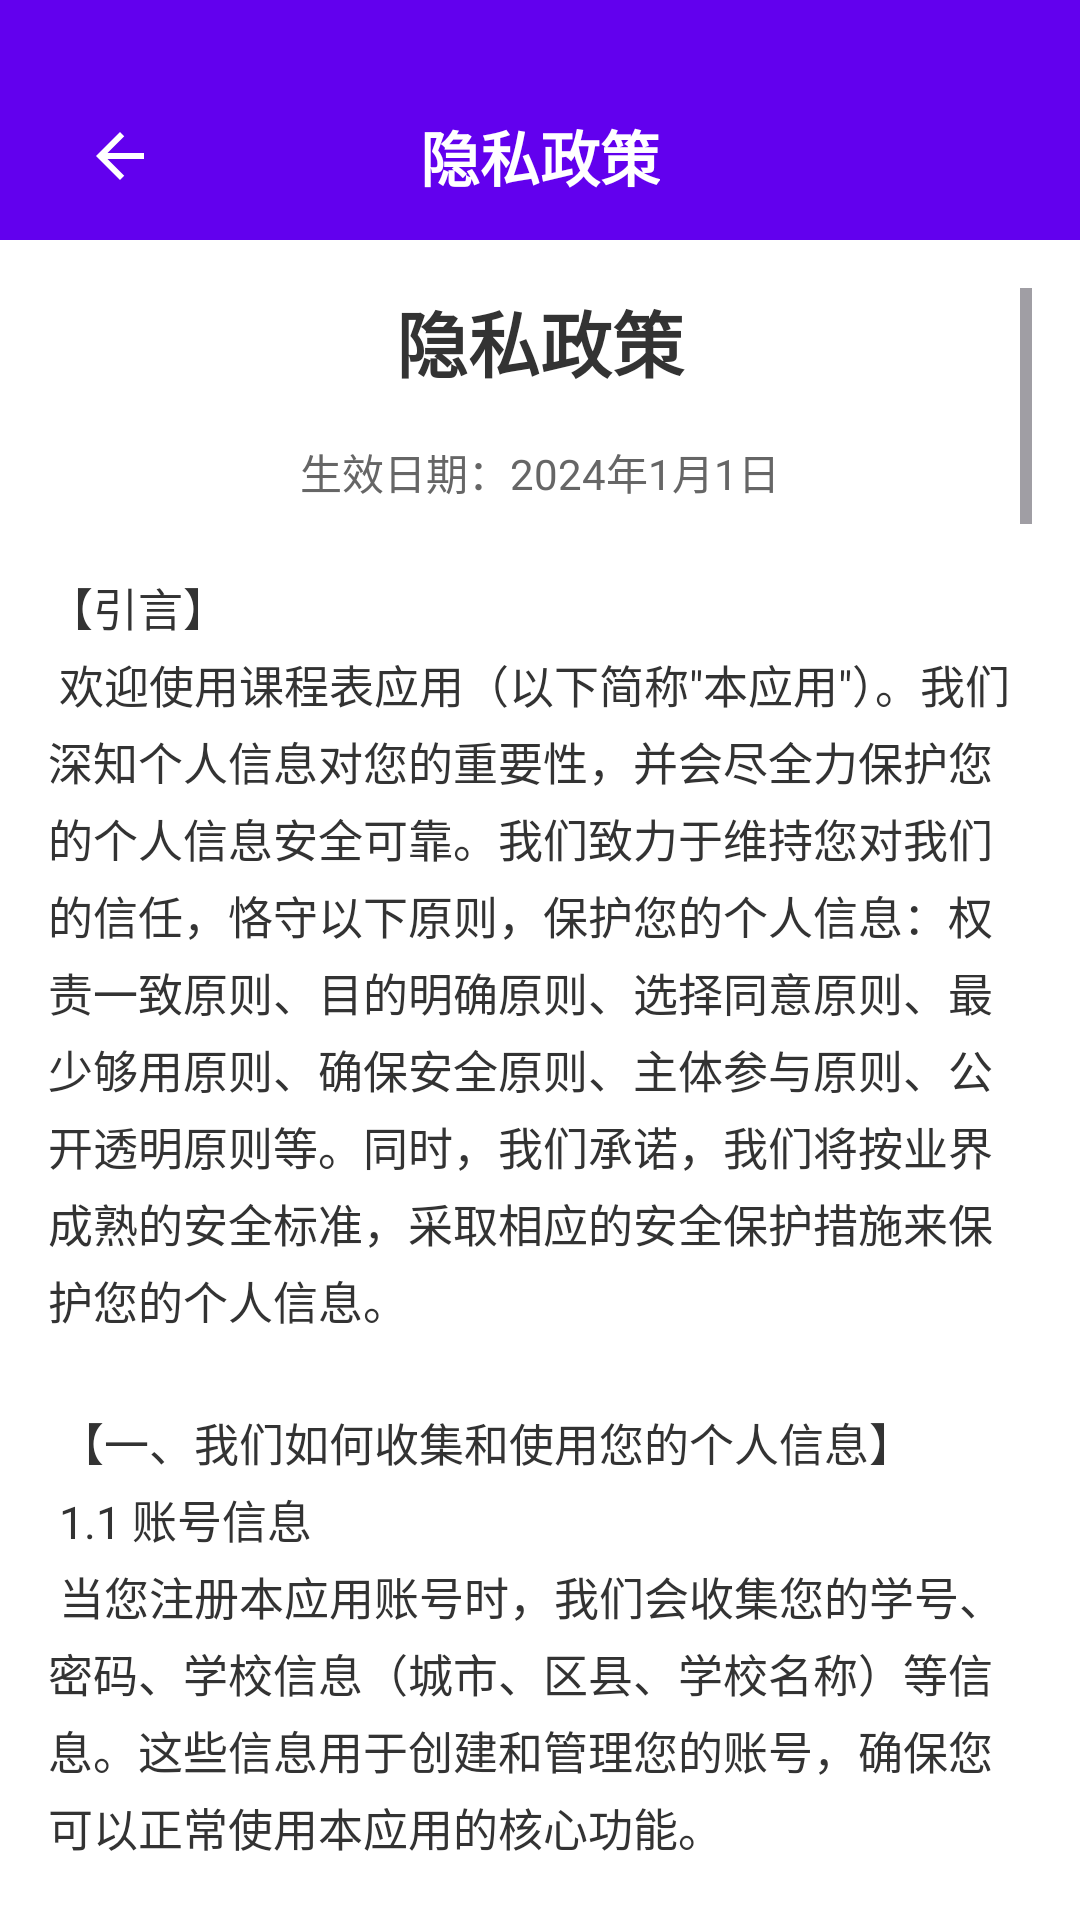

Screen size 1080 x 1920. Icon name, then its center in pixels as point (x, y):
返回: point (120, 156)
